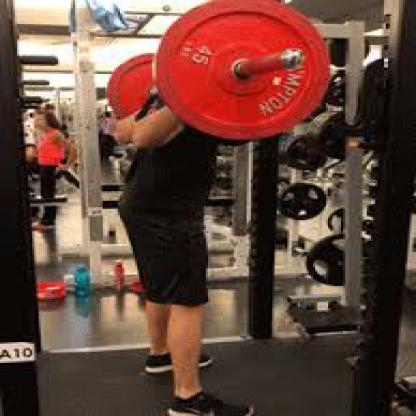barbell: (107, 0, 329, 139)
